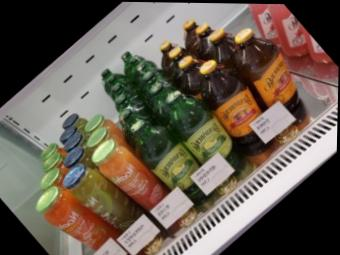glass: (102, 41, 235, 167), (100, 52, 209, 188), (210, 28, 296, 136), (45, 149, 142, 239), (87, 120, 169, 209), (36, 174, 118, 249)
